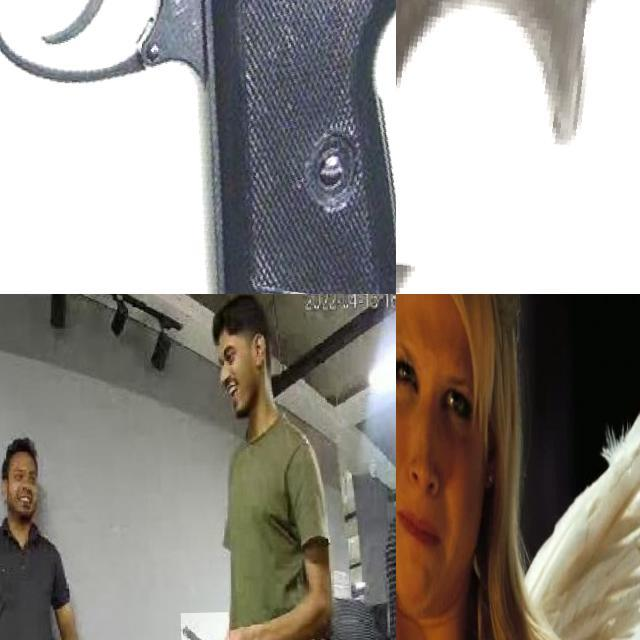-: (179, 613, 228, 640)
gun-knife-thesis - v11 Yolov5 augmented: (0, 0, 396, 294), (396, 0, 640, 294), (396, 294, 504, 420)
